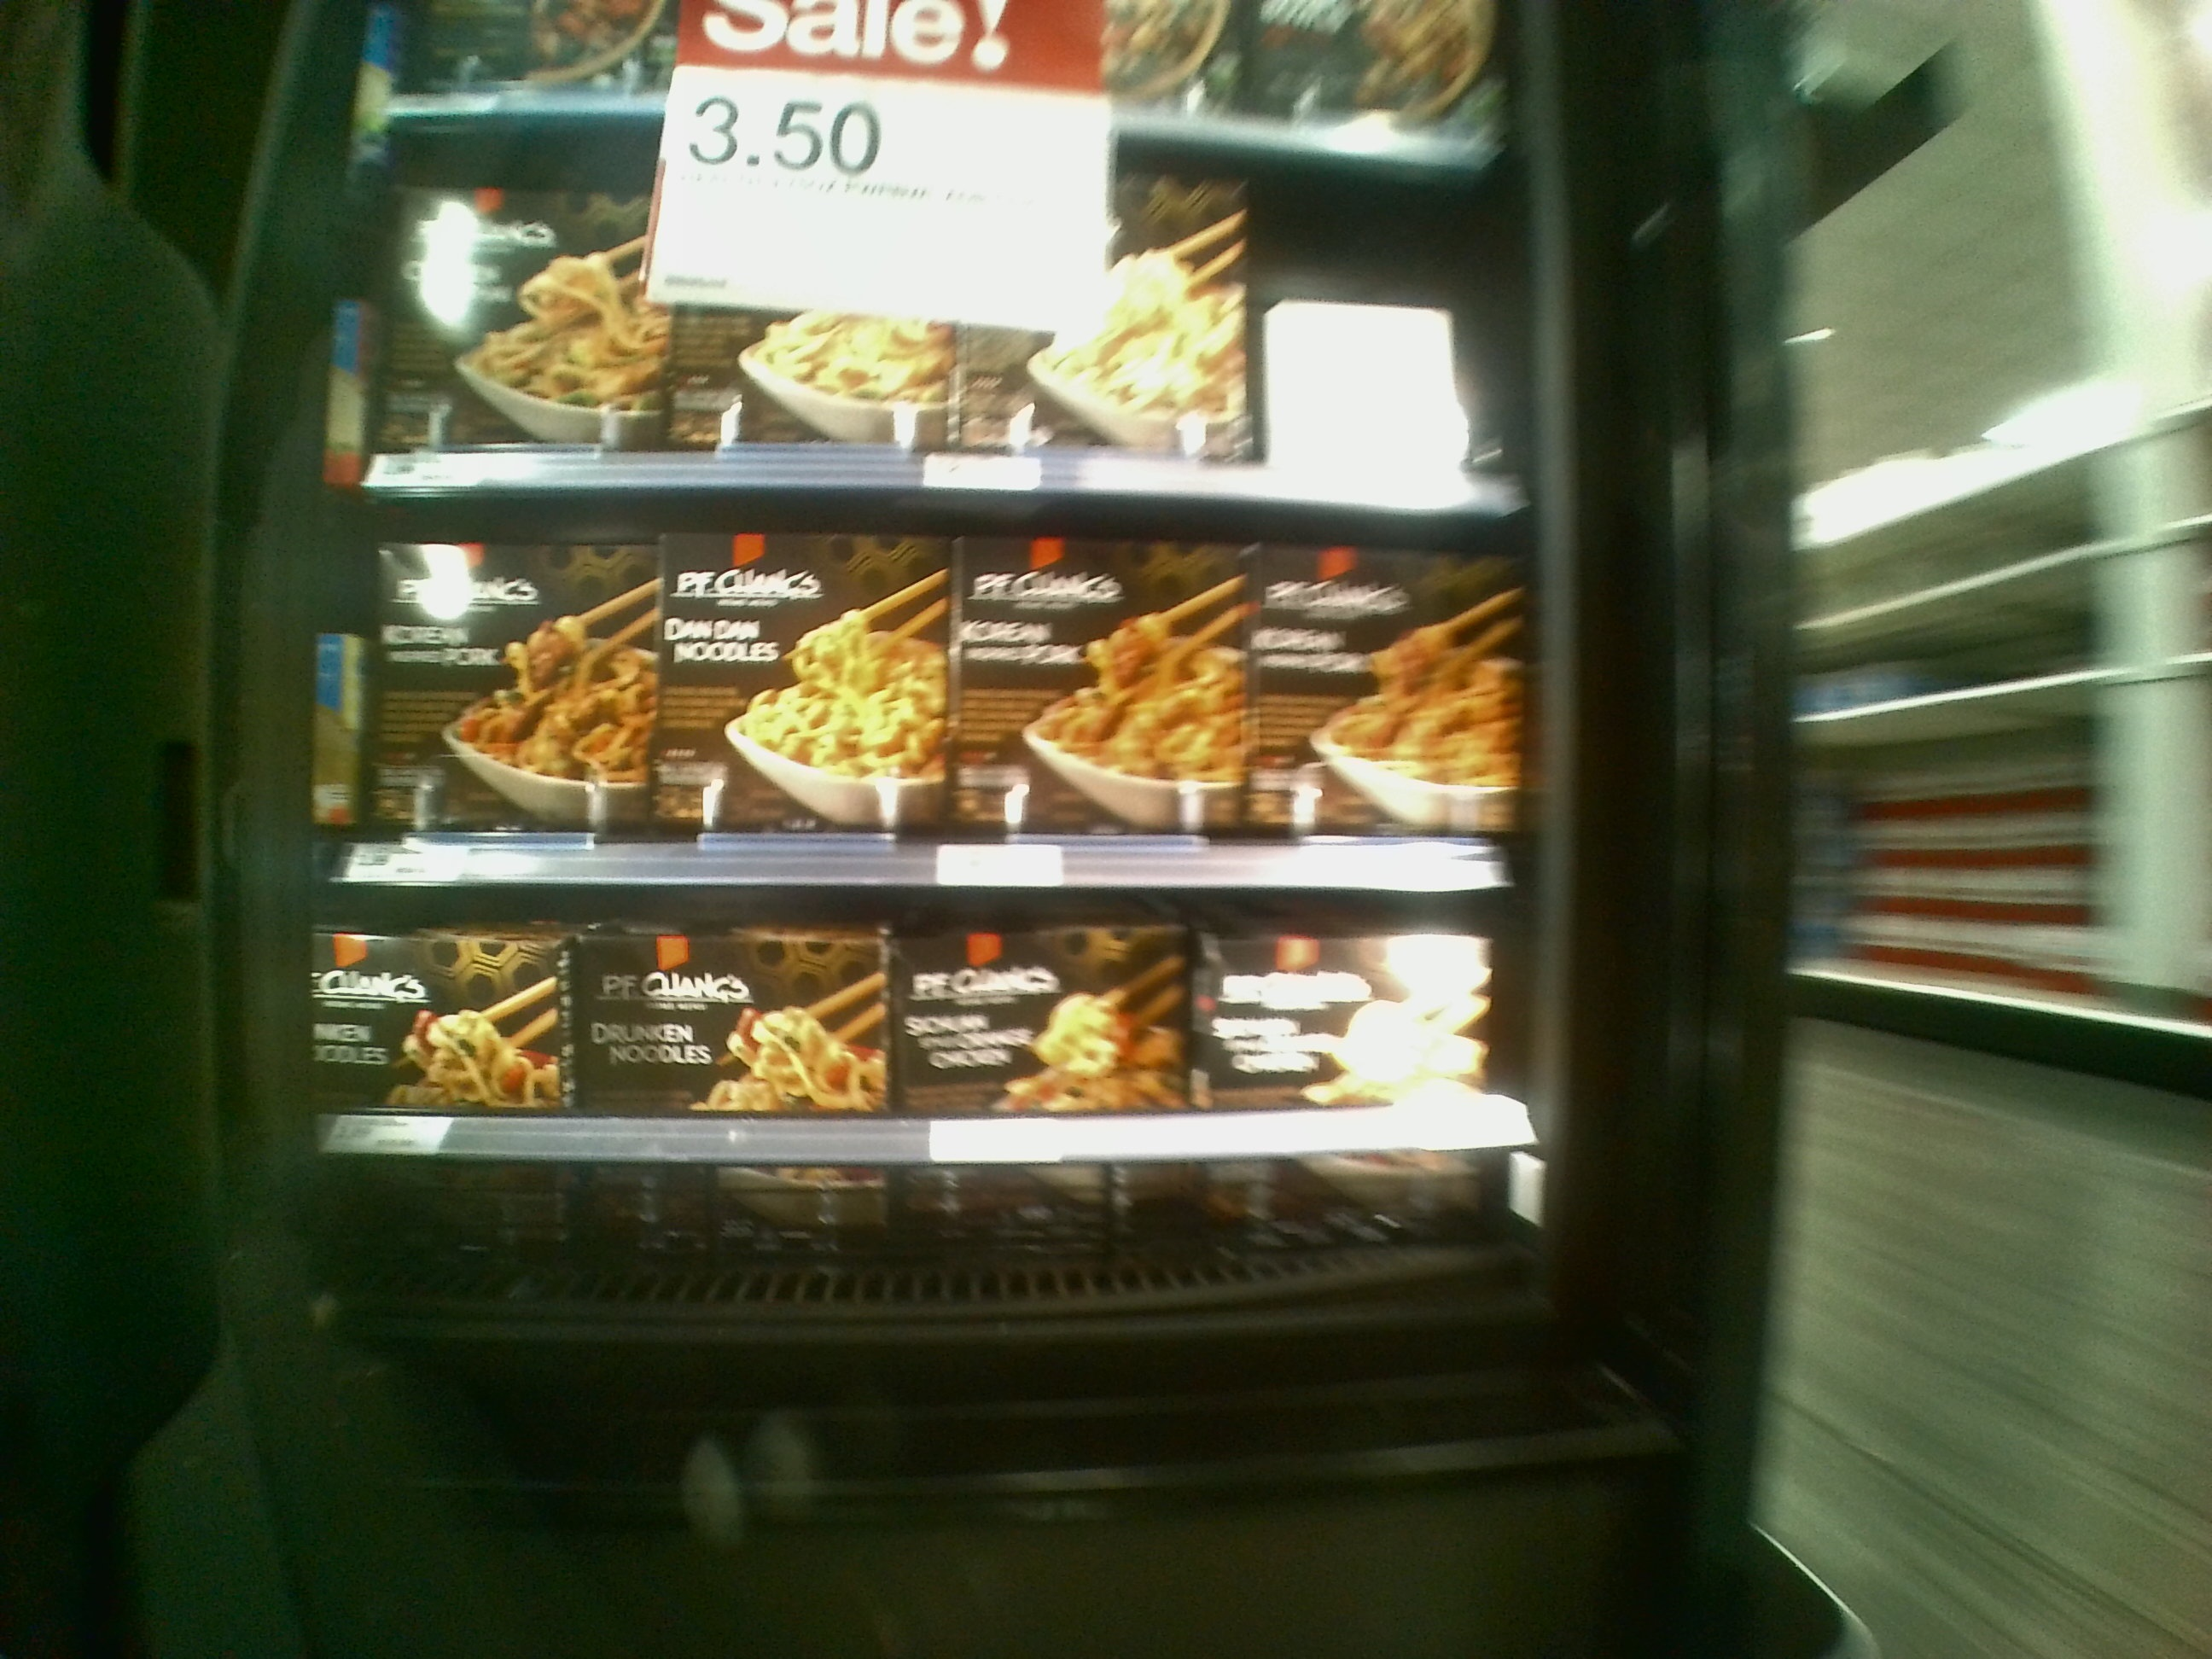shelf: (305, 887, 1540, 1314), (322, 467, 1508, 889)
